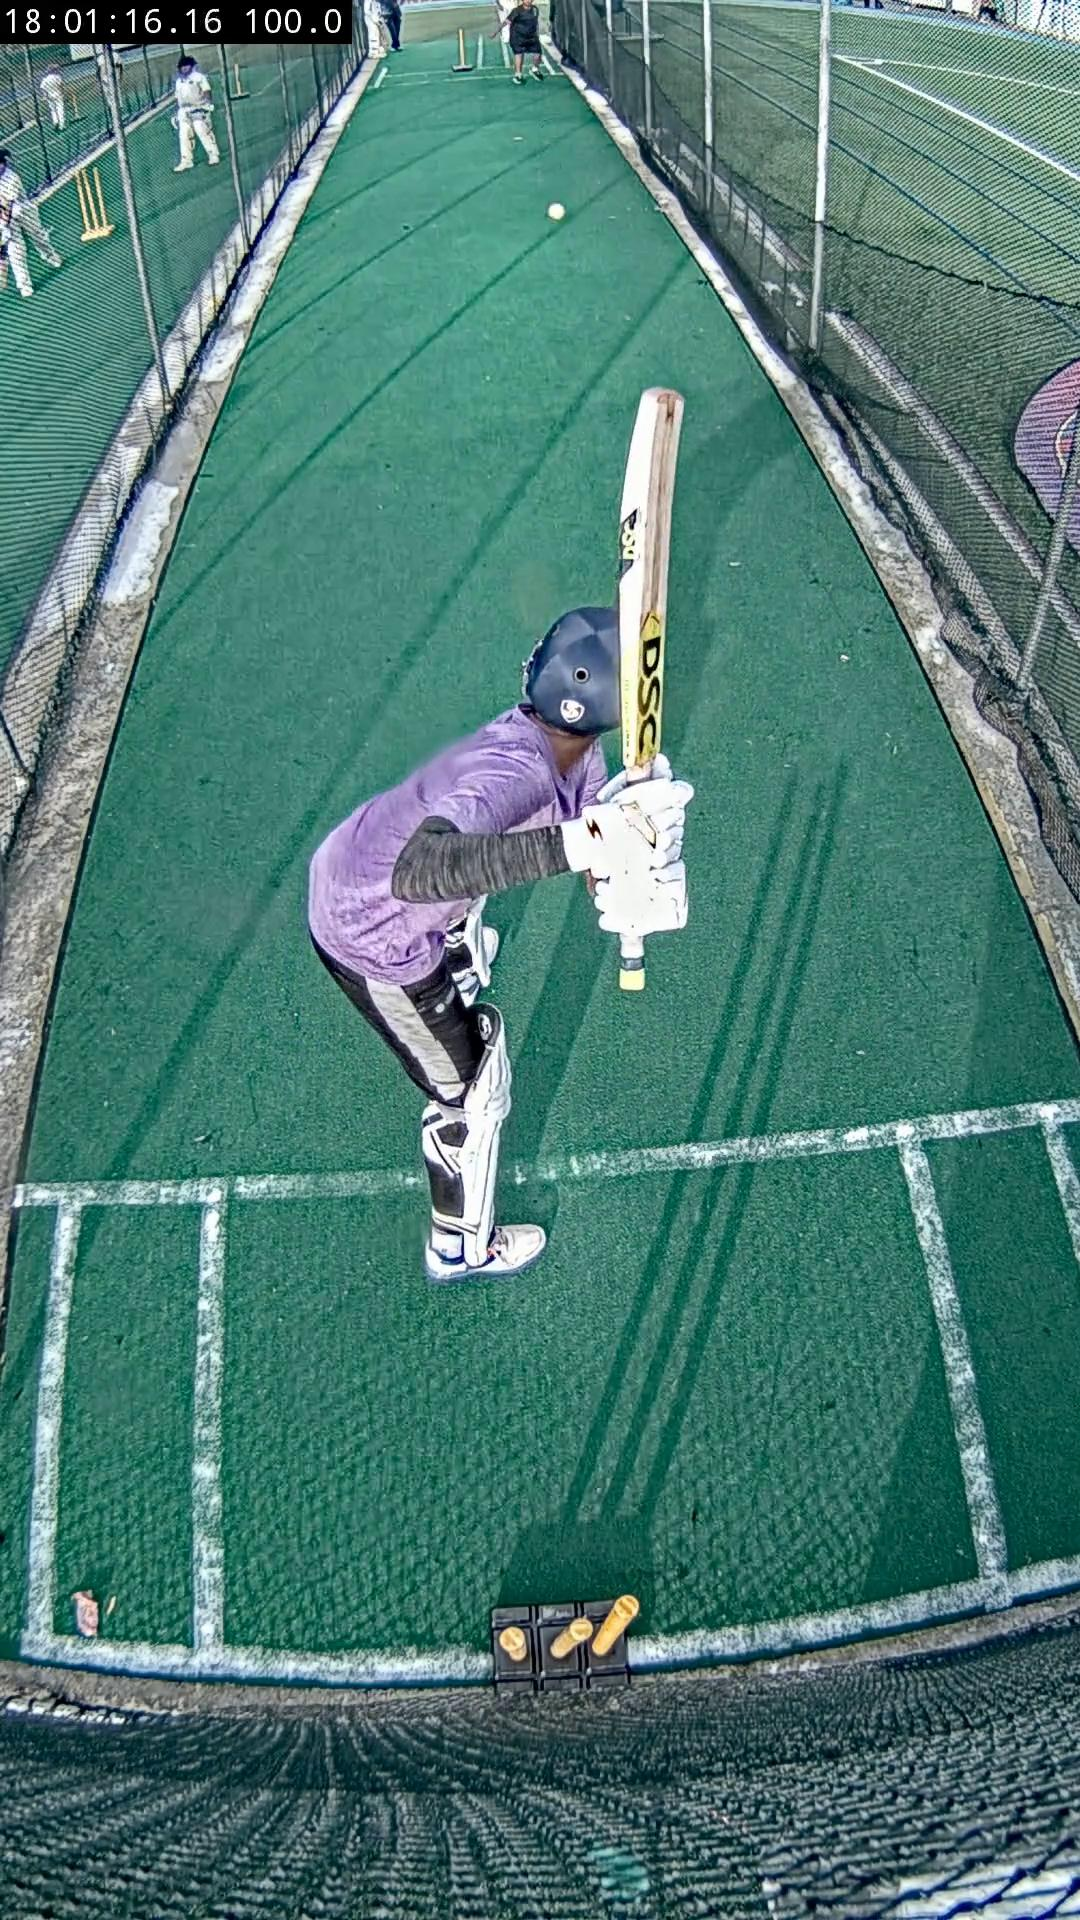ball: (547, 203, 566, 222)
bat: (618, 390, 683, 782), (618, 934, 645, 990)
gloves: (563, 757, 694, 938)
helmet: (521, 608, 618, 735)
pads: (454, 1005, 514, 1263)
stumps: (492, 1594, 641, 1692)
